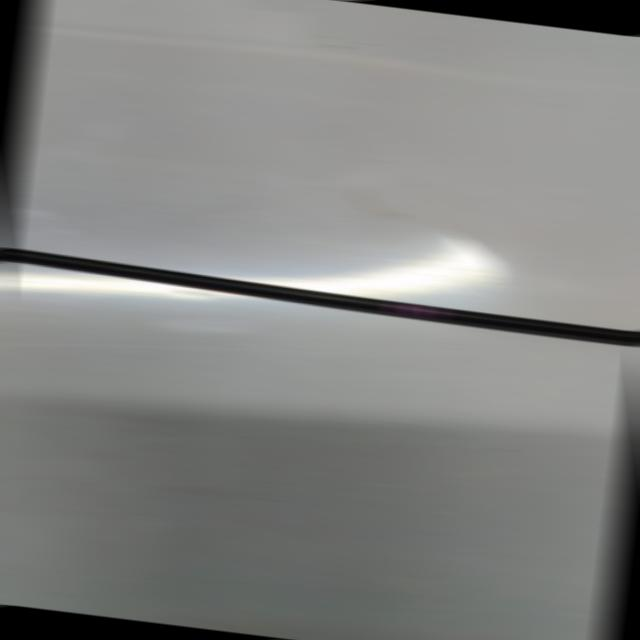pink: (389, 301, 442, 318)
